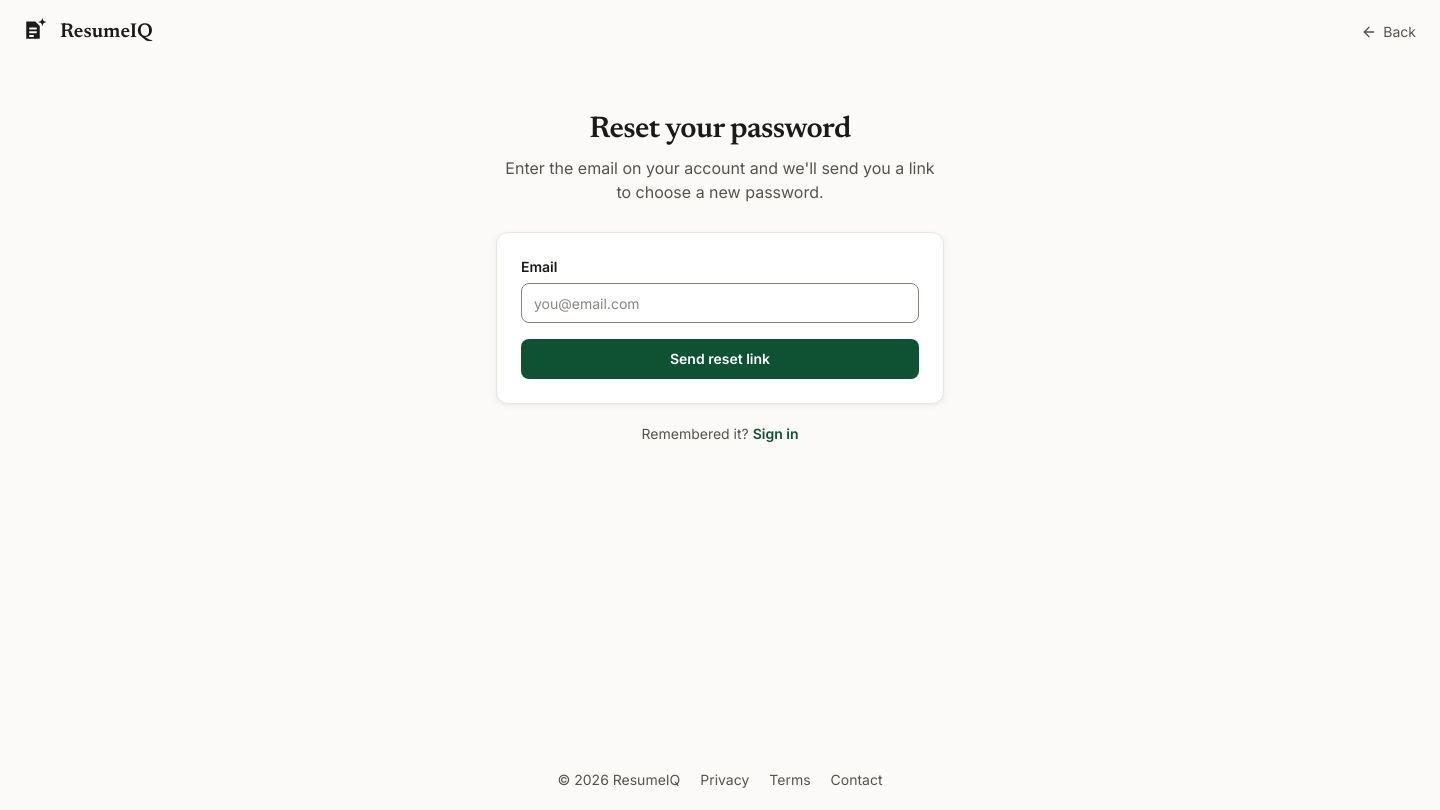
it: ForgotPasswordPage › explains a throttled request
Step 1. Type "maya@example.com" into the field labelled "Email" → (720, 303), box [521,283,919,323]
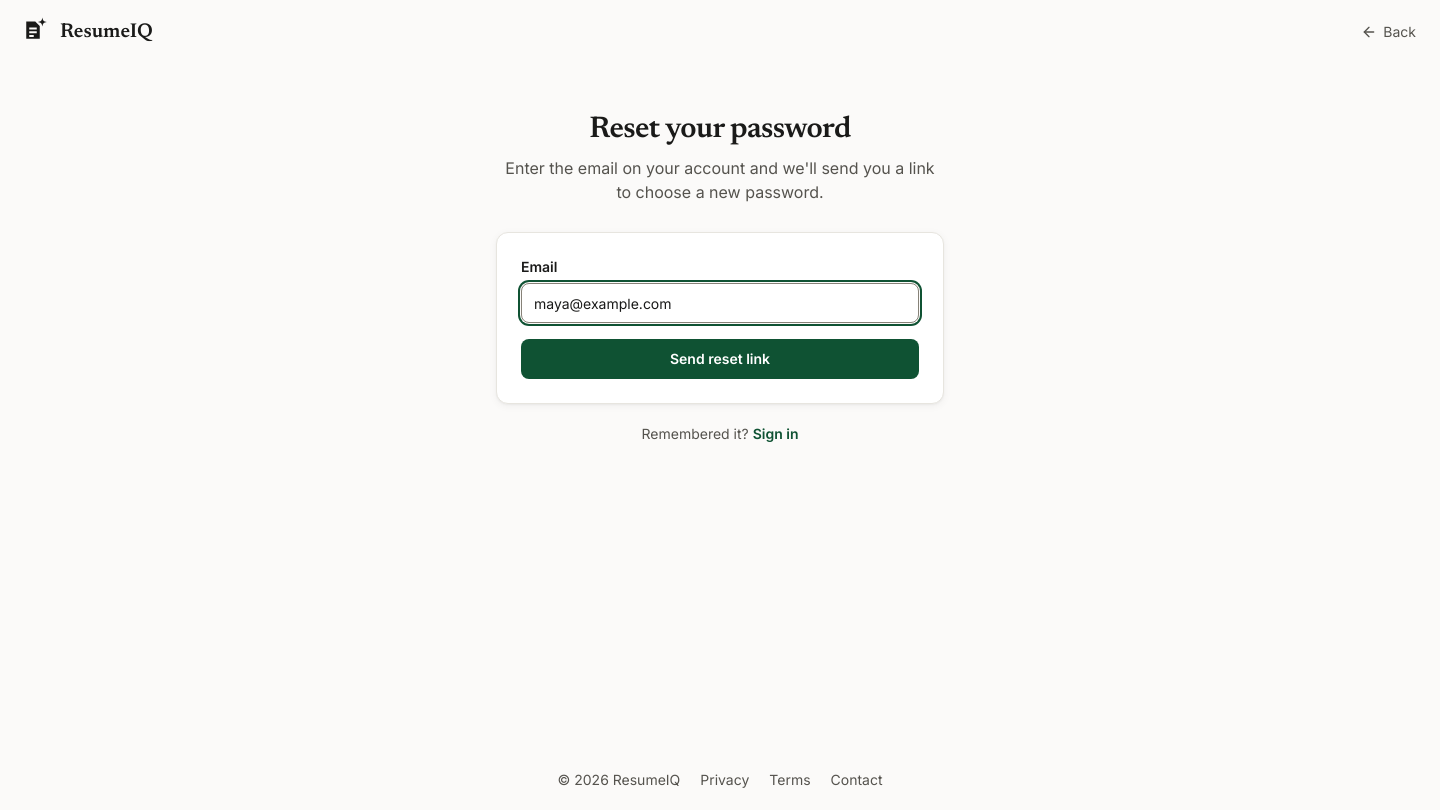
Step 2. Click the button "Send reset link" → (720, 359), box [521,339,919,379]
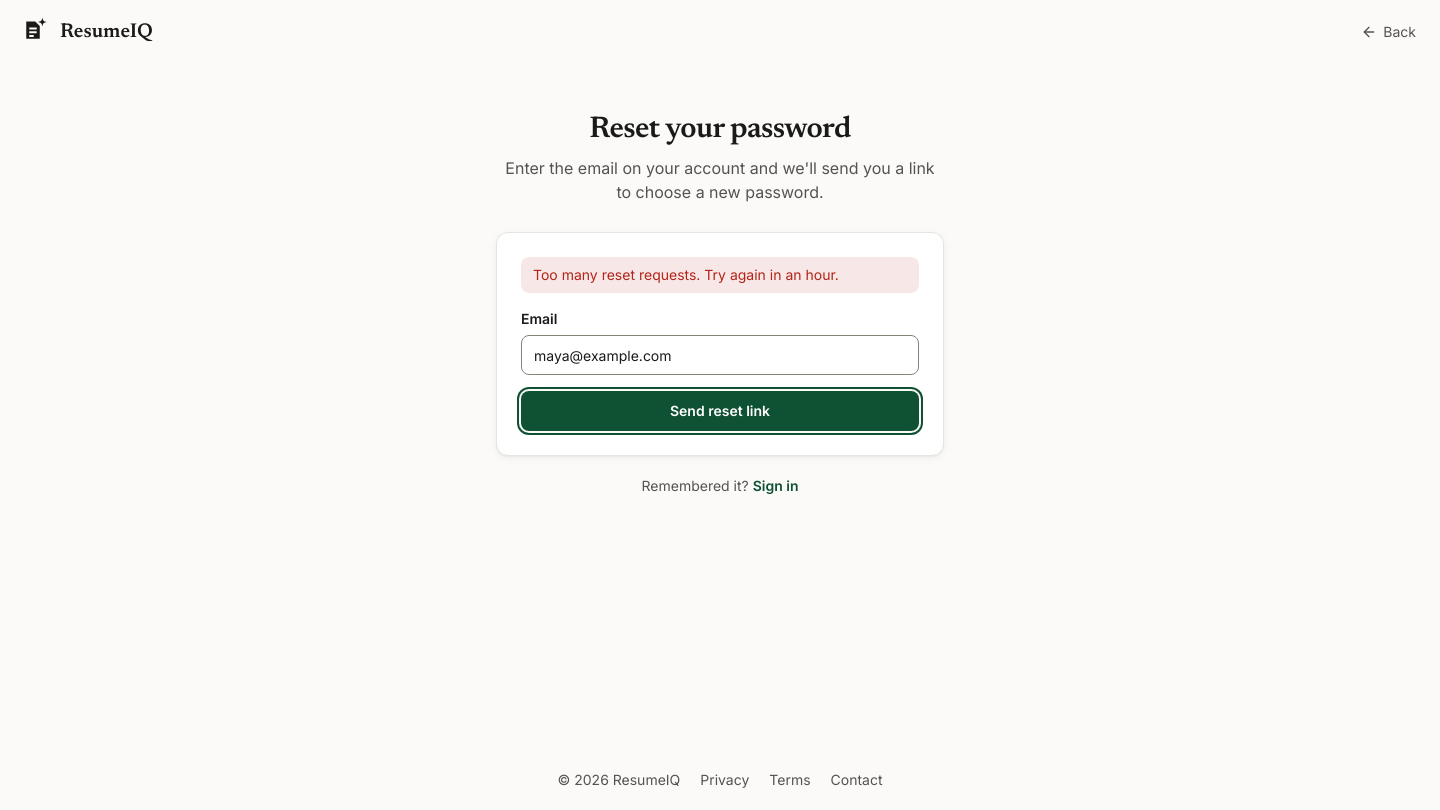
Check: the message reads "Too many reset requests. Try again in an hour.", box [533,266,839,283]
